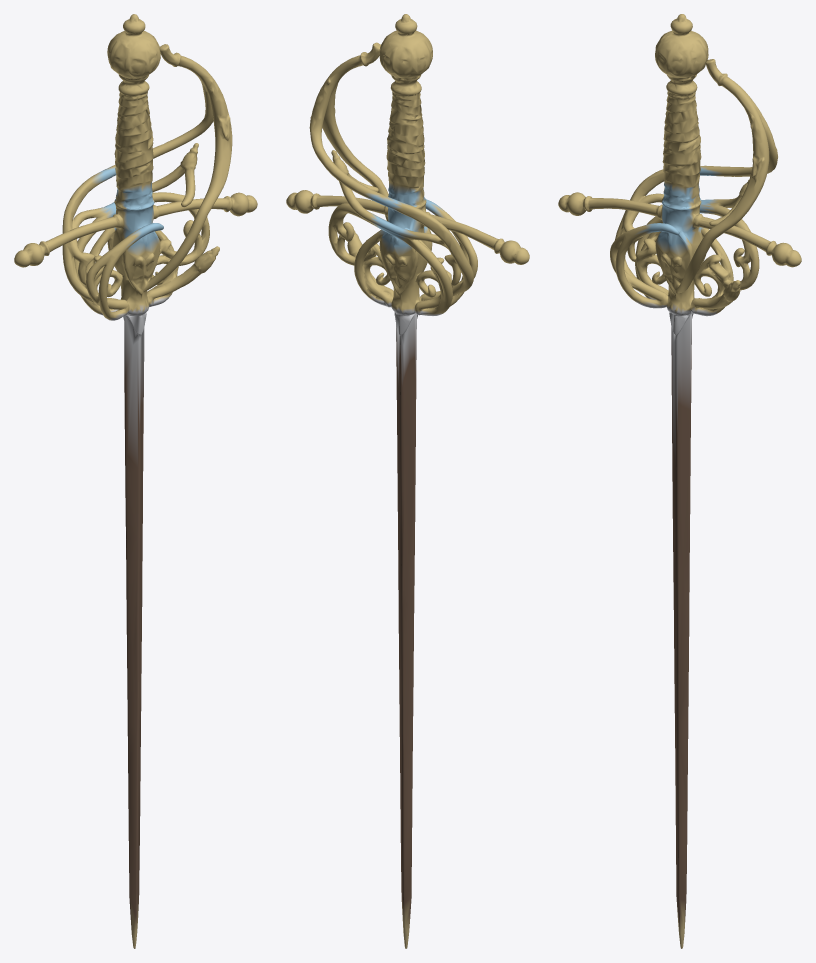
File: staff-ornate.glb
3 renders of one model, left to right at view 1: azimuth 30°, elevation 25°; view 2: azimuth 150°, elevation 25°; view 3: azimuth 330°, elevation 25°, orthographic.
Bounding box in the file's own units: 0.5146 × 1.9 × 0.1701.
